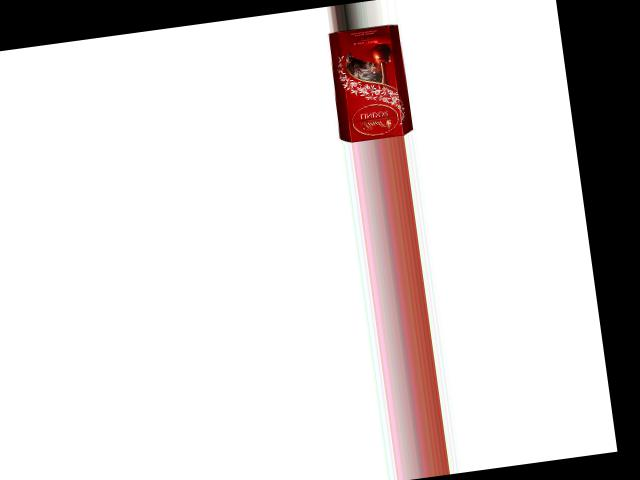chocolate: (324, 22, 418, 143)
